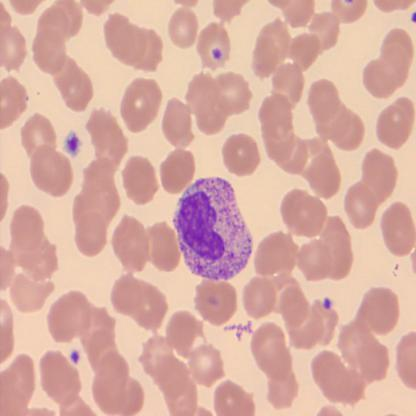Metamyelocyte: (171, 172, 256, 284)
